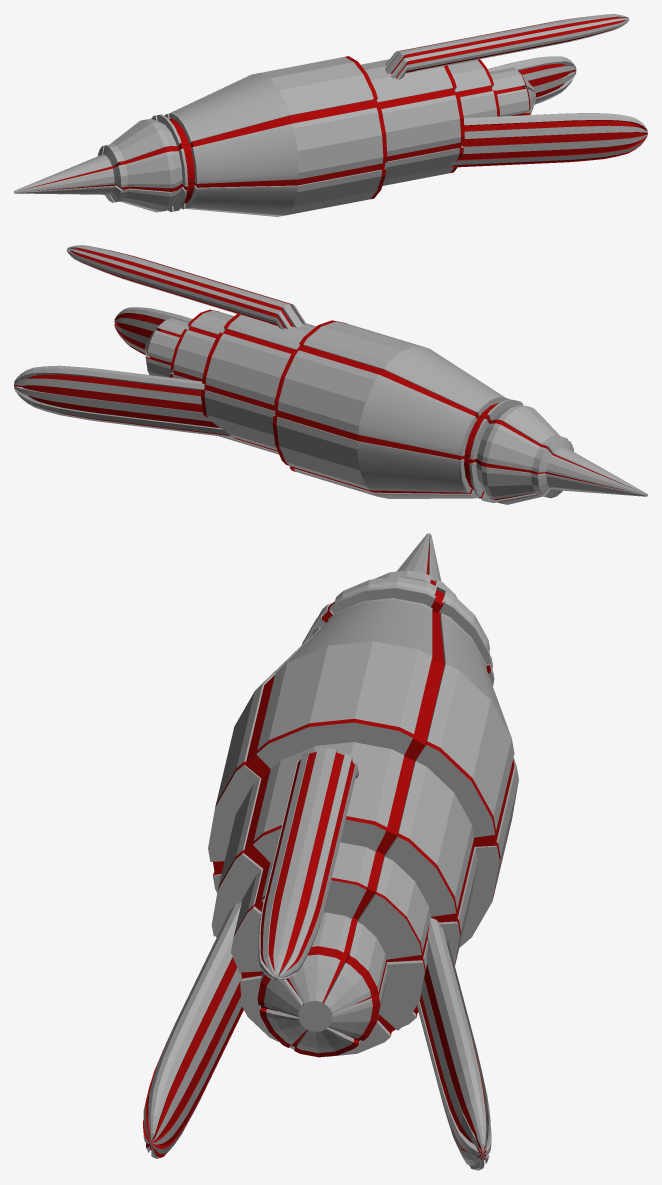
The model's file is Pod_Arm.fbx.
3 views of the same model, one above another, from view 1: azimuth 30°, elevation 25°; view 2: azimuth 150°, elevation 25°; view 3: azimuth 270°, elevation 25° (orthographic). The views are drawn at different scales.
Visible parts, largest first — view 1: polySurface22; view 2: polySurface22; view 3: polySurface22.
Part boxes in pixels (x1=…): polySurface22: x1=14, y1=14, x2=647, y2=216; polySurface22: x1=14, y1=245, x2=647, y2=504; polySurface22: x1=143, y1=533, x2=518, y2=1170.
Bounding box in the file's own units: 4.26 × 0.9716 × 1.2.
